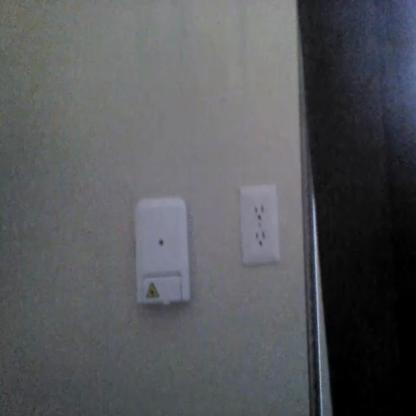OUTLET: (238, 185, 280, 264)
